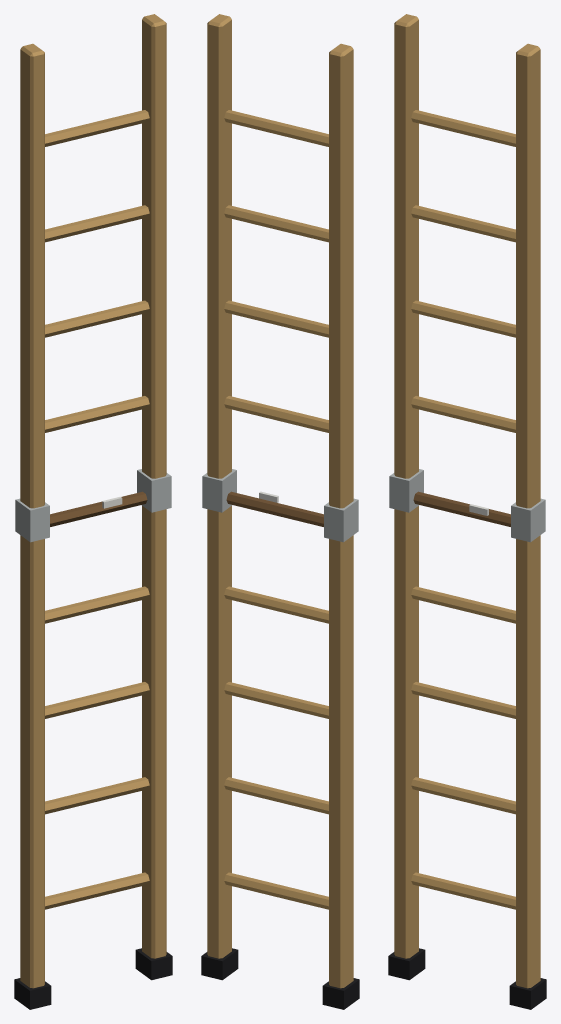
File: kit.ladder.glb
3 views of the same model, side by side, from view 1: azimuth 30°, elevation 25°; view 2: azimuth 150°, elevation 25°; view 3: azimuth 330°, elevation 25° (orthographic).
Visible parts, largest first — view 1: rail-1, rail1, rung0, rung3, rung6, rung7, rung2, rung5, rung1, rung8, bracket-1, rung4 (+3 smaller); view 2: rail-1, rail1, rung0, rung3, rung6, rung7, rung2, rung5, rung1, rung8, rung4, bracket-1 (+3 smaller); view 3: rail1, rail-1, rung0, rung3, rung6, rung7, rung2, rung5, rung1, rung8, bracket1, rung4 (+3 smaller).
Part boxes in pixels (box(x1,y1,x2,y2)): rail-1: box(20, 43, 44, 988); rail1: box(142, 14, 166, 958); rung0: box(45, 872, 149, 909); rung3: box(45, 586, 149, 623); rung6: box(45, 300, 149, 337); rung7: box(45, 205, 149, 242); rung2: box(45, 682, 149, 718); rung5: box(45, 396, 149, 432); rung1: box(45, 777, 149, 814); rung8: box(45, 110, 149, 146); bracket-1: box(15, 498, 49, 542); rung4: box(50, 491, 147, 526); rail-1: box(329, 43, 353, 988); rail1: box(207, 14, 231, 958); rung0: box(224, 872, 328, 909); rung3: box(224, 586, 328, 623); rung6: box(224, 300, 328, 337); rung7: box(224, 205, 328, 242); rung2: box(224, 682, 328, 718); rung5: box(224, 396, 328, 432); rung1: box(224, 777, 328, 814); rung8: box(224, 110, 328, 146); rung4: box(226, 491, 323, 526); bracket-1: box(324, 498, 358, 542); rail1: box(516, 43, 540, 988); rail-1: box(394, 14, 418, 958); rung0: box(411, 872, 515, 909); rung3: box(411, 586, 515, 623); rung6: box(411, 300, 515, 337); rung7: box(411, 205, 515, 242); rung2: box(411, 682, 515, 718); rung5: box(411, 396, 515, 432); rung1: box(411, 777, 515, 814); rung8: box(411, 110, 515, 146); bracket1: box(511, 498, 545, 542); rung4: box(413, 491, 510, 526).
Bounding box in the file's own units: 0.47 × 3 × 0.09.
